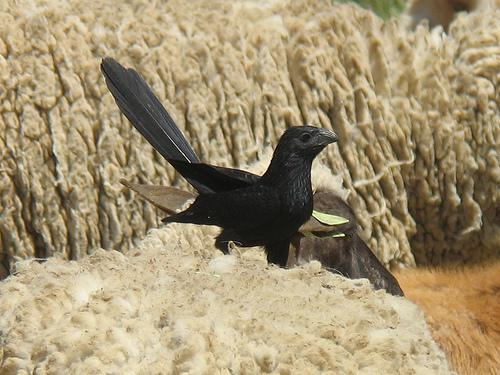004.Groove_billed_Ani: (99, 54, 338, 273)
